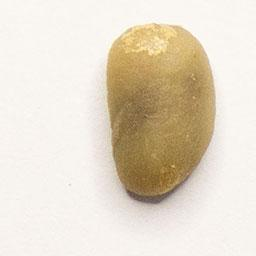longberry: (103, 20, 219, 202)
